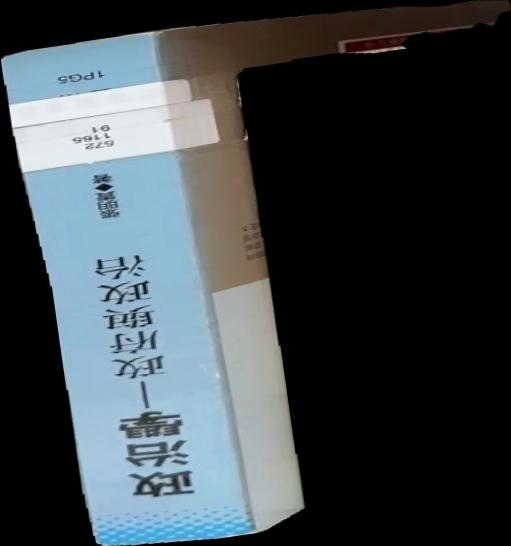reverse: (1, 1, 511, 546)
